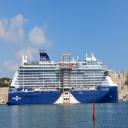cruises: (7, 47, 121, 110)
